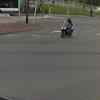Motorcycle: (52, 14, 89, 41)
